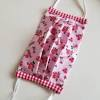cloth_mask: (7, 1, 89, 100)
